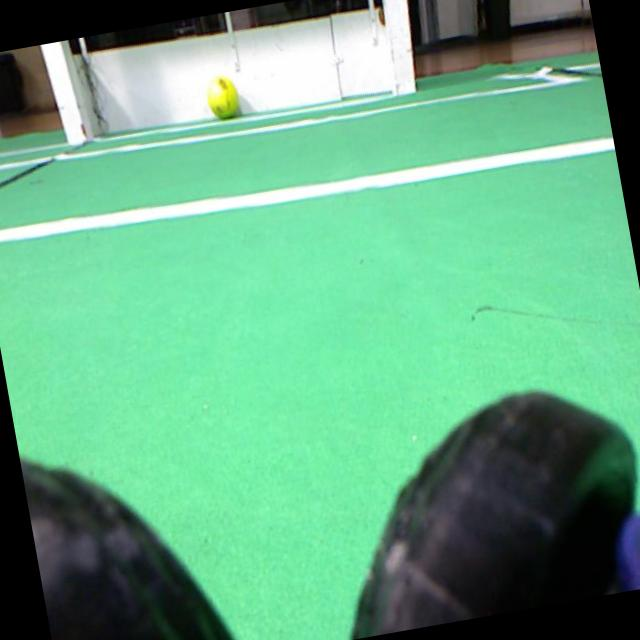ball: (206, 75, 237, 118)
goal: (40, 40, 85, 144), (382, 0, 414, 94)
